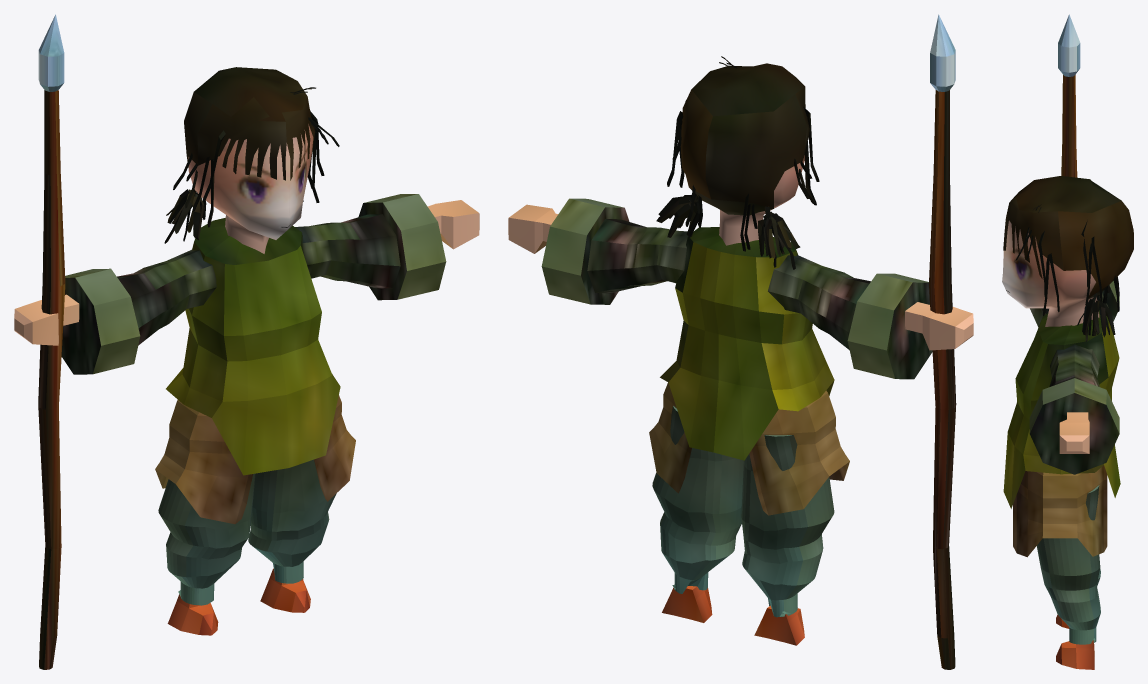
Rendered from june.glb.
3 views of the same model, side by side, from view 1: azimuth 30°, elevation 25°; view 2: azimuth 150°, elevation 25°; view 3: azimuth 270°, elevation 25° (orthographic). The views are drawn at different scales.
Parts seen in each view (by area): view 1: Limbs, Torso, Hair, Weapon, Head; view 2: Limbs, Torso, Hair, Weapon, Head; view 3: Limbs, Hair, Torso, Head, Weapon.
Boxes of the visible parts, x1,y1,x2,y2 form: Limbs: (61,194,446,635); Torso: (14,200,479,475); Hair: (164,67,339,243); Weapon: (38,14,65,669); Head: (188,124,313,253); Limbs: (541,198,932,645); Torso: (508,204,973,460); Hair: (656,56,819,269); Weapon: (929,14,956,669); Head: (719,155,804,245); Limbs: (1013,281,1119,669); Hair: (1003,176,1133,341); Torso: (1003,310,1120,508); Head: (1002,220,1099,326); Weapon: (1058,14,1080,177).
Bounding box in the file's own units: 1.74 × 2.38 × 0.5194.
2 materials, 2 textured.
